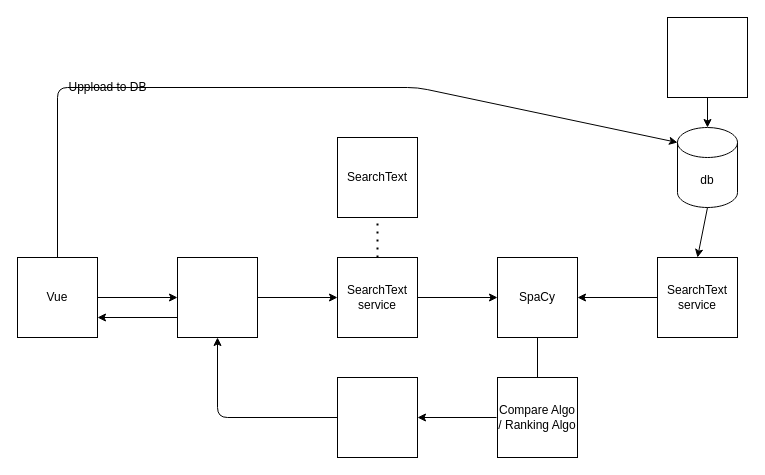
This 765x475 diagram has some shape labels left out. Here are the shapes that lost their labels. From the top down, the box of each, then its label:
(666, 16, 748, 98): Admin
(176, 256, 258, 338): Controller
(336, 376, 418, 458): Result Service
